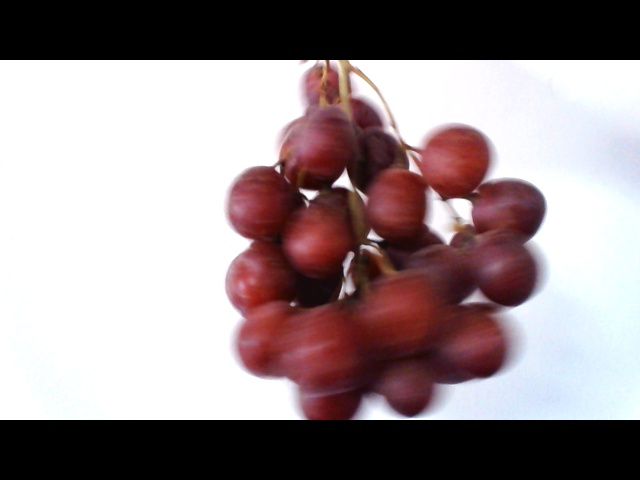grape: (198, 72, 551, 413)
